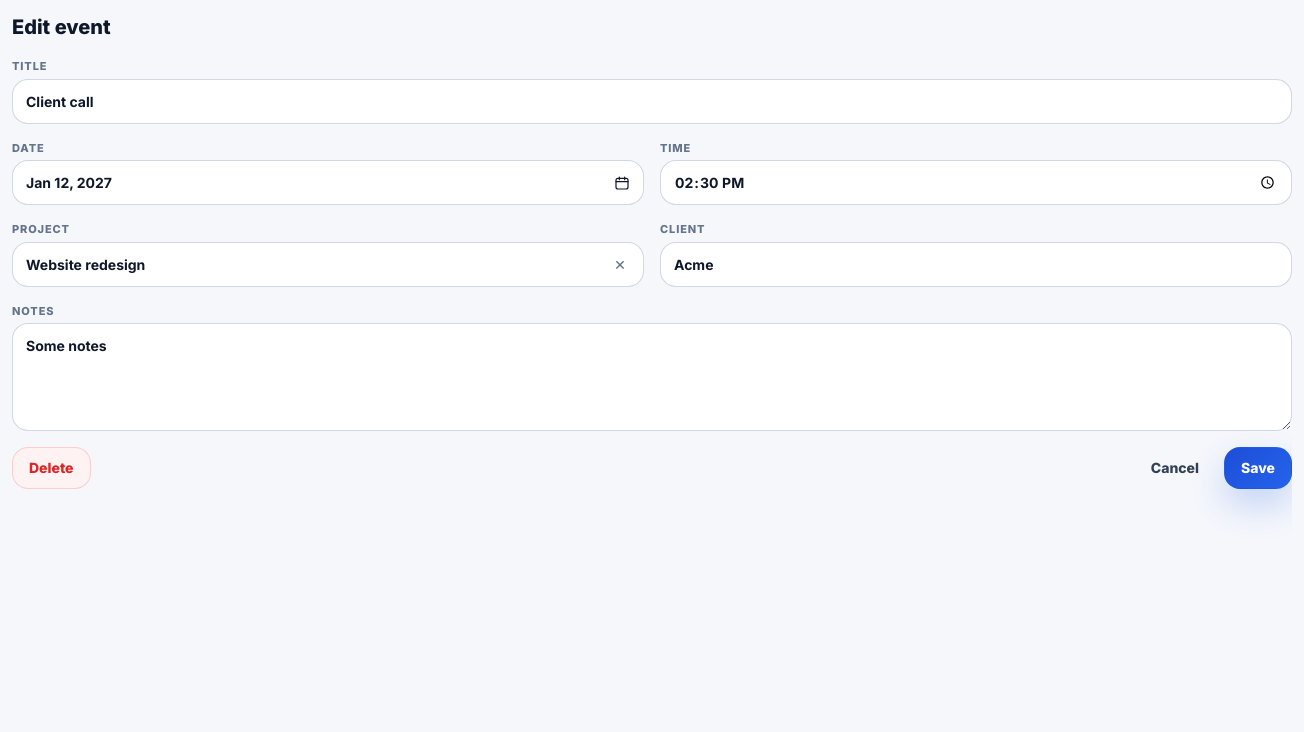
Test: CalendarEventForm — delete flow › first click only enters confirmation -- no request sent
Click the button "Delete": [51, 468] box 12,447 -> 90,489
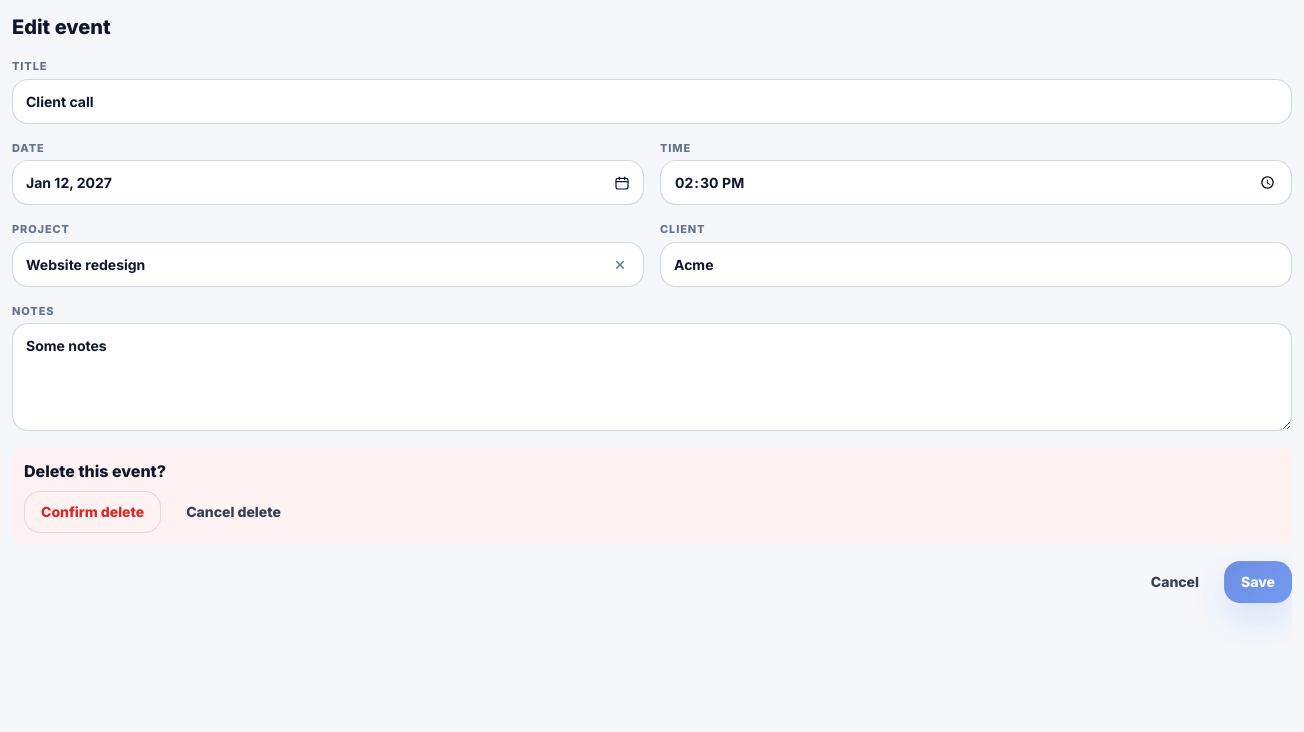
Result: the text "Delete this event?" is shown at 24,461 -> 166,481
Result: the button "Confirm delete" is shown at 24,491 -> 161,533
Result: the button "Cancel delete" is shown at 169,491 -> 298,533
